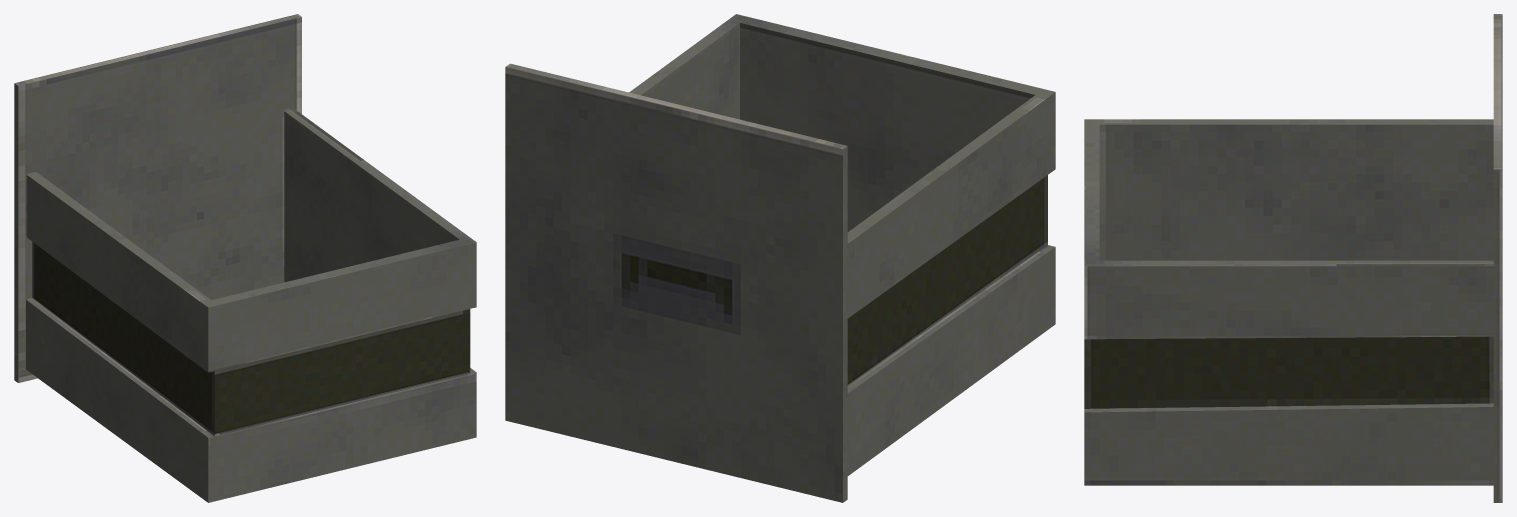
Rendered from SM_FilingCabinet_Draw.fbx.
3 views of the same model, side by side, from view 1: azimuth 30°, elevation 25°; view 2: azimuth 150°, elevation 25°; view 3: azimuth 270°, elevation 25° (orthographic). The views are drawn at different scales.
Parts seen in each view (by area): view 1: SM_FilingCabinet_Draw; view 2: SM_FilingCabinet_Draw; view 3: SM_FilingCabinet_Draw.
Part boxes in pixels (x1,y1,x2,y2): SM_FilingCabinet_Draw: (14,14,476,502); SM_FilingCabinet_Draw: (505,14,1055,502); SM_FilingCabinet_Draw: (1084,14,1502,502).
Size of the model in its own units: 48.86 by 48.91 by 55.58.
